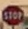stop: (1, 4, 24, 25)
